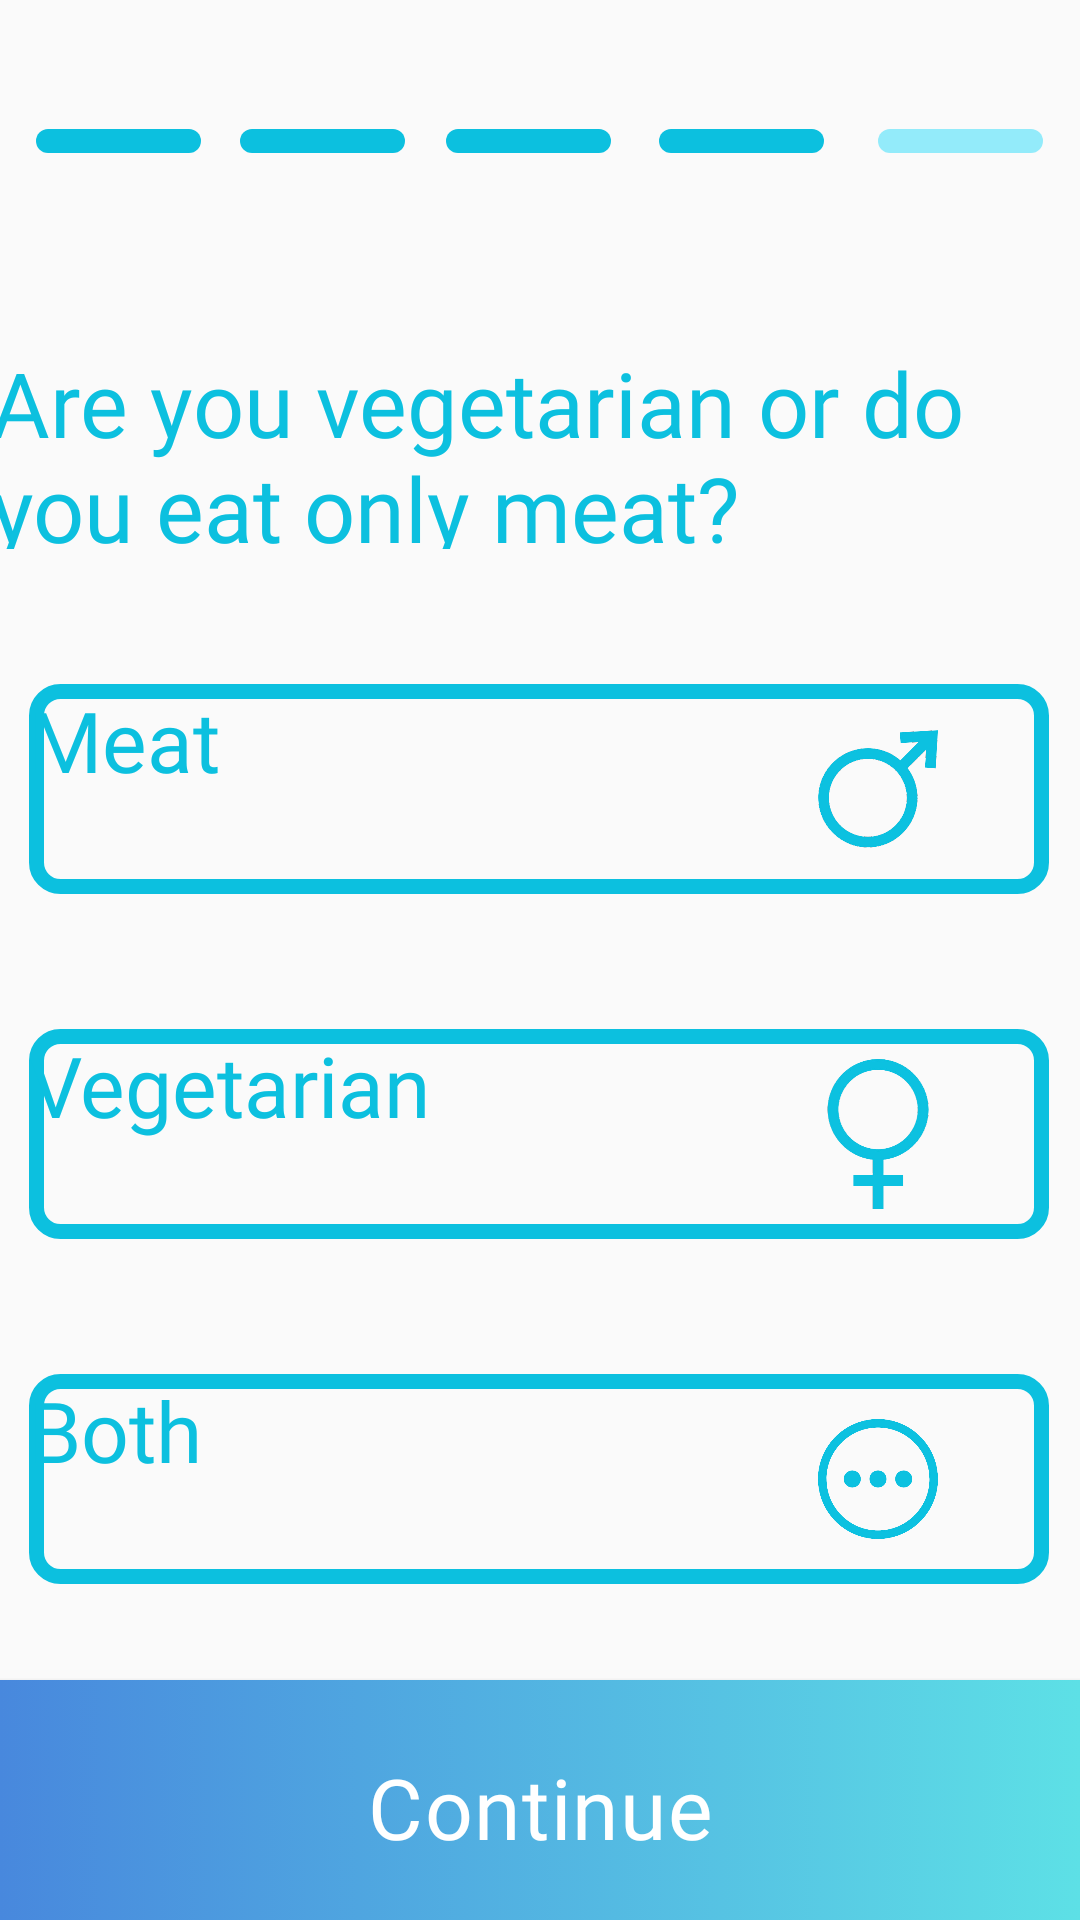

Screen size 1080w x 1920h. Icon name, then its center in pixels as point (x, y):
female: point (878, 1134)
male: point (878, 789)
other: point (878, 1479)
